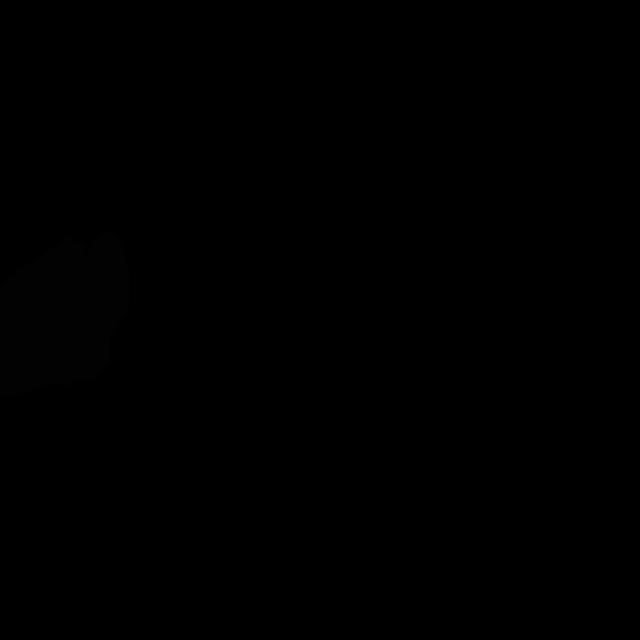cardboard: (0, 230, 129, 400)
